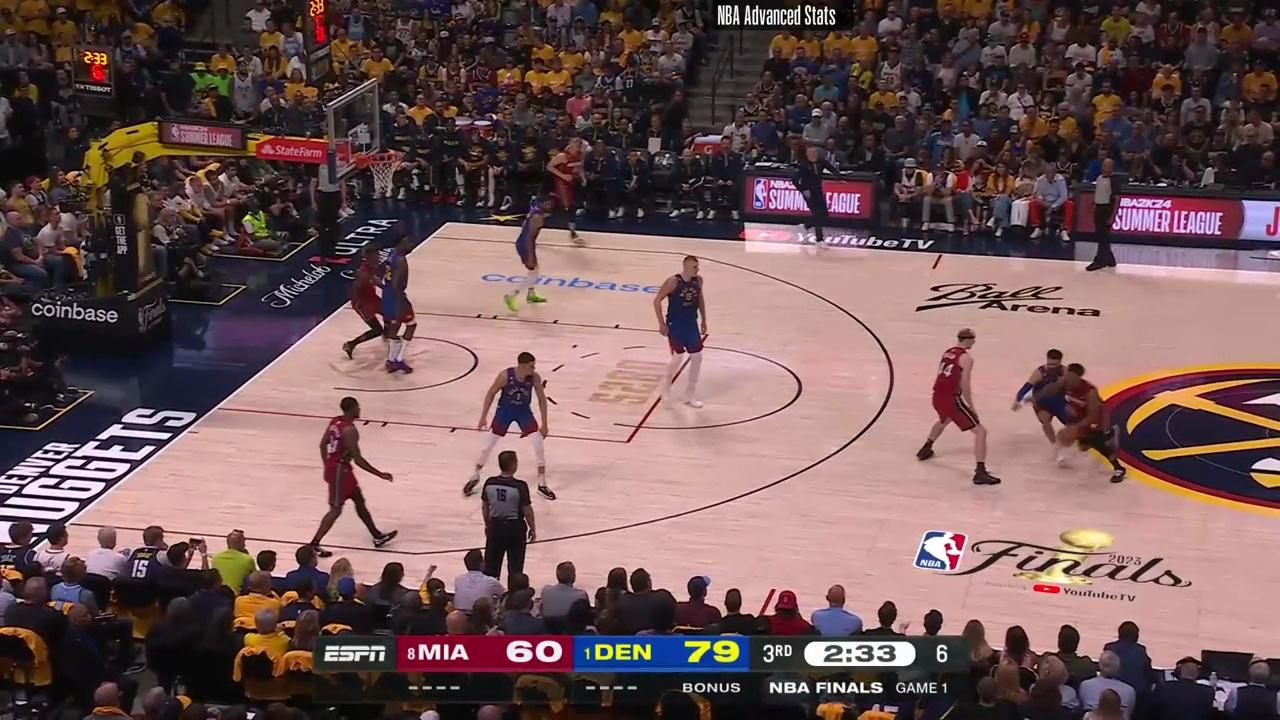Backboard: (325, 77, 380, 186)
Ball: (1055, 426, 1079, 449)
Basket: (366, 152, 399, 192)
Person: (308, 399, 404, 558), (917, 323, 995, 487), (1025, 352, 1118, 483), (478, 345, 555, 494), (648, 250, 717, 413), (501, 195, 559, 317), (378, 230, 426, 377), (1015, 342, 1070, 469), (539, 141, 601, 251), (339, 244, 383, 366)
Referee: (472, 451, 547, 588), (301, 164, 354, 268), (1080, 156, 1124, 274)
Shot Clock: (296, 0, 340, 68), (74, 46, 121, 106)
